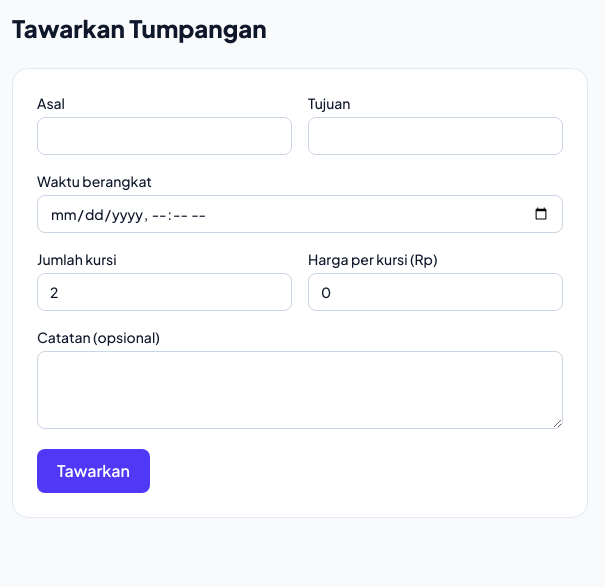
Test: RideFormPage › gagal menampilkan pesan
The width and height of the screenshot is (605, 587).
In the field named "origin": (164, 136) [37,117,292,155], type "Del"
In the field named "destination": (436, 136) [308,117,563,155], type "Balige"
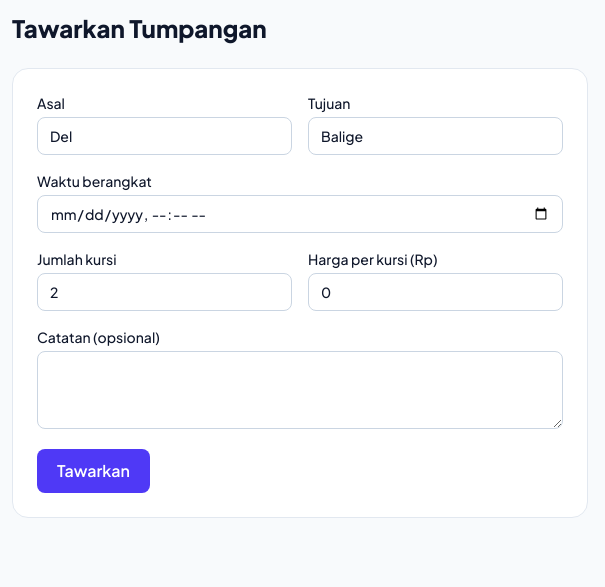
In the field named "departure_time": (300, 214) [37,195,563,233], type "2030-01-01T08:00"
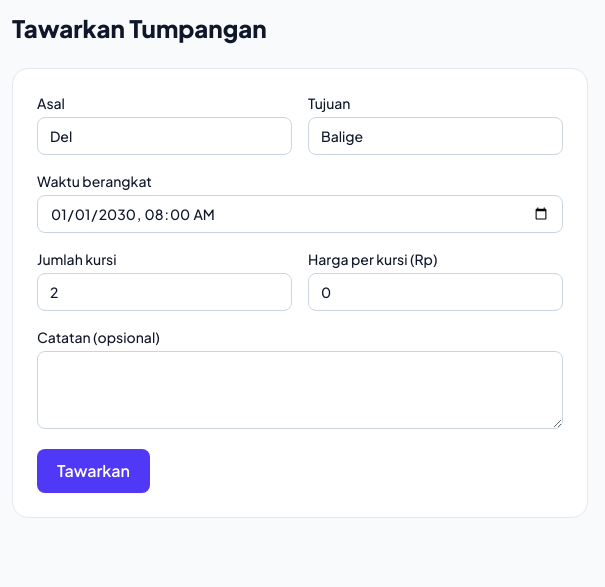
Replace the text in the number field named "seats_total" with "3": (164, 292) [37,273,292,311]
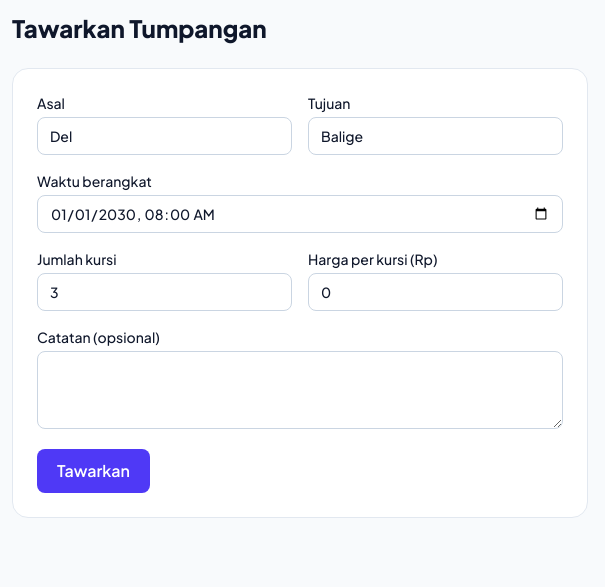
Replace the text in the number field named "price" with "5000": (436, 292) [308,273,563,311]
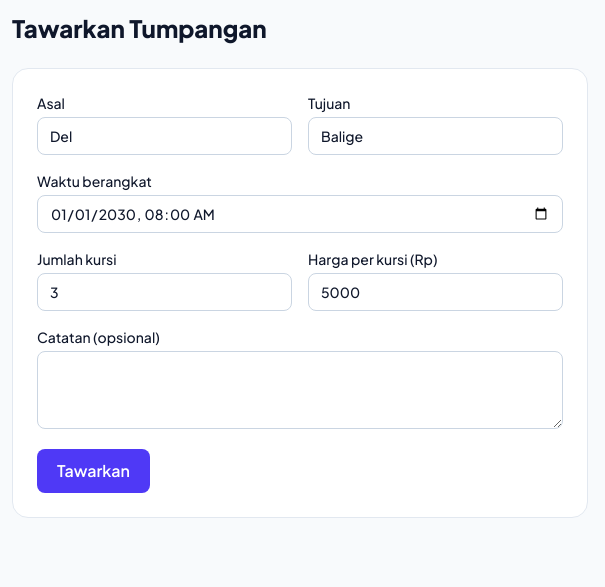
In the text box named "notes": (300, 390) [37,351,563,429], type "bawa helm"
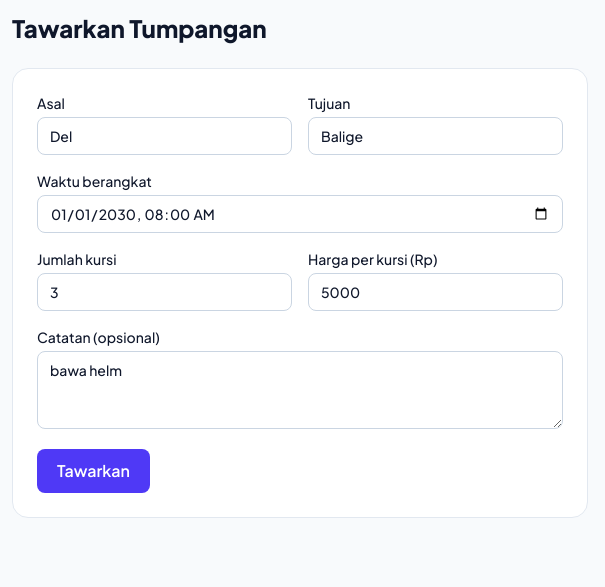
Submit the form
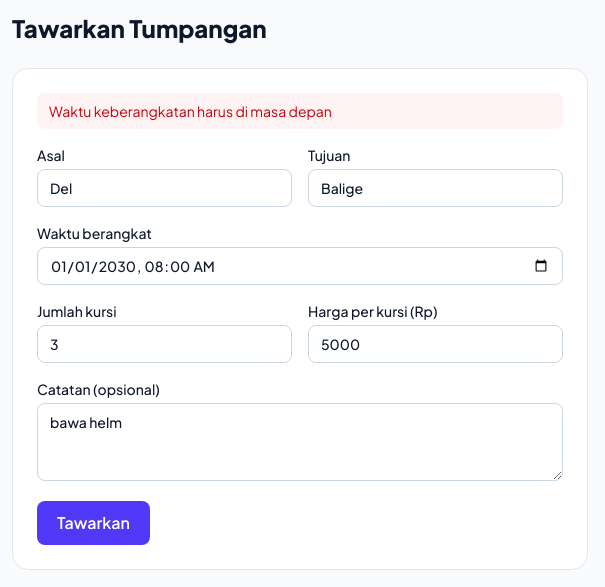
Result: the message "Waktu keberangkatan harus di masa depan" is shown at [37,93,563,129]
